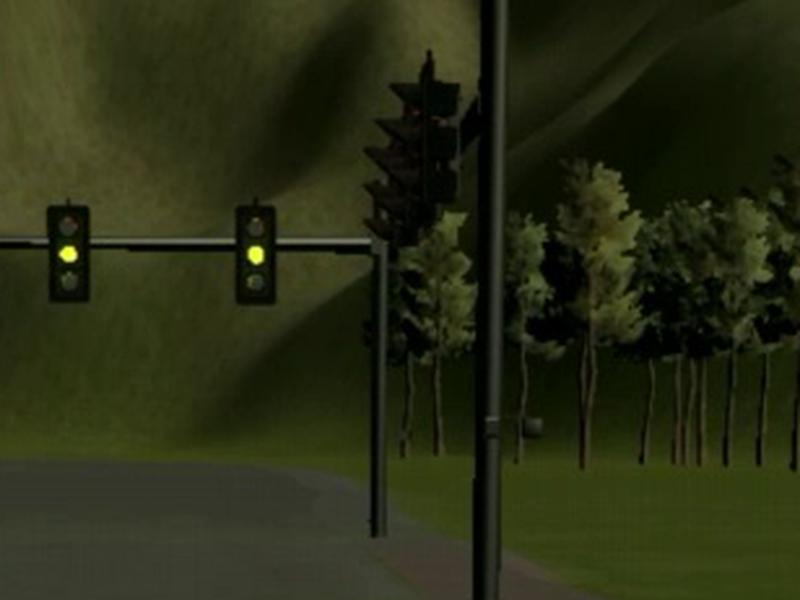Yellow: (46, 205, 91, 303), (235, 205, 277, 303)
